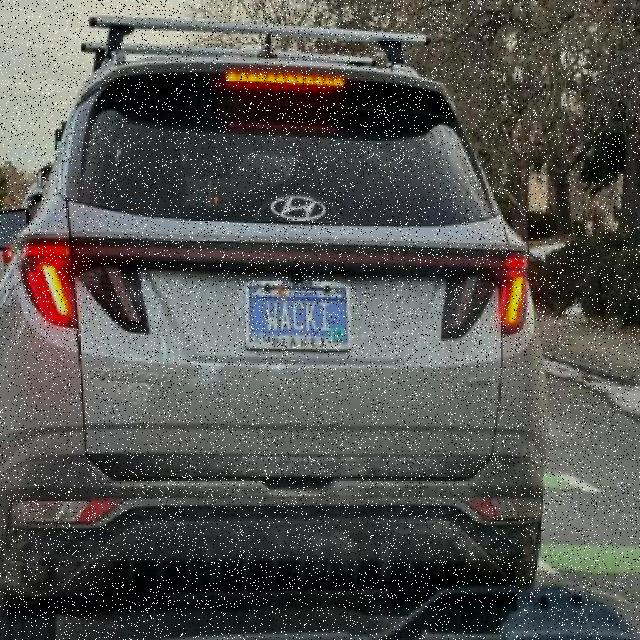licenseplate: (245, 279, 353, 351)
